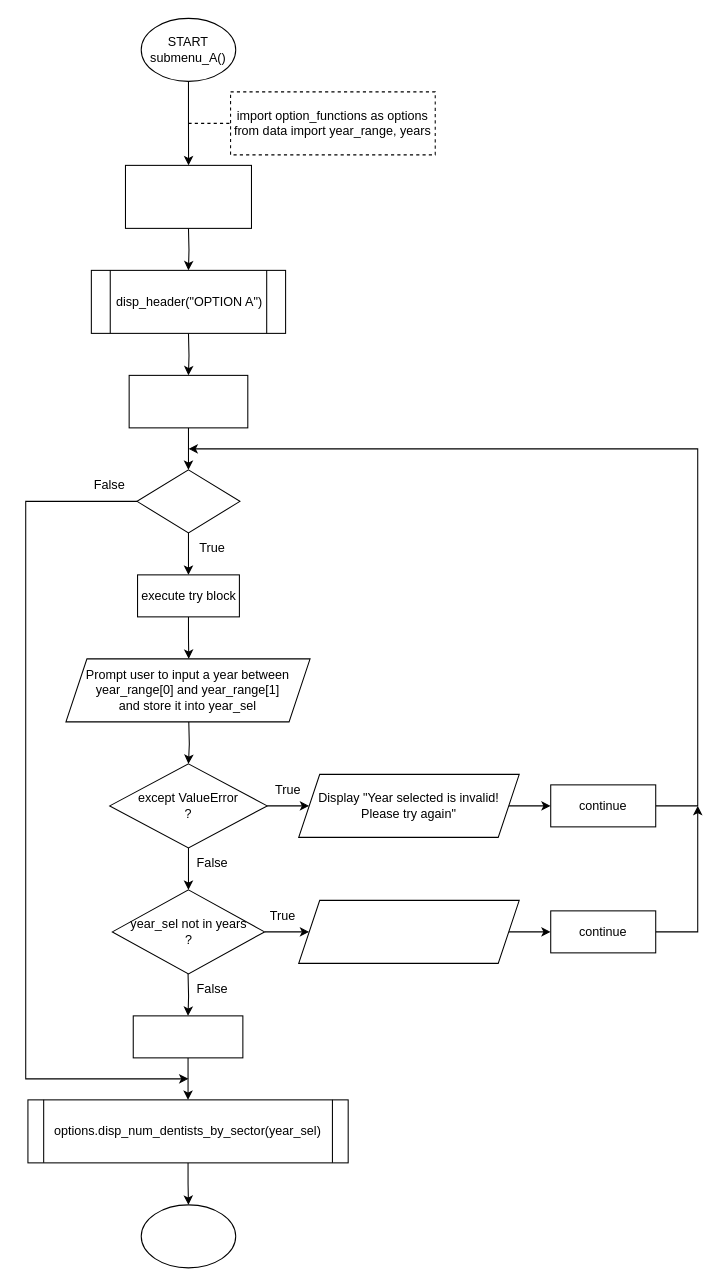
Image size: 724x1286. Some labels were removed from this diagram. The box of each missing label's shape, as (x1, y1, x2, y2) in pixels:
break: (132, 1015, 243, 1058)
Display "Year selected is out of range! Please try again": (298, 899, 519, 963)
END submenu_A(): (140, 1204, 236, 1268)
Initialise year_sel to 0: (124, 164, 251, 228)
loop: (136, 469, 240, 533)
set loop to True: (128, 374, 248, 428)
